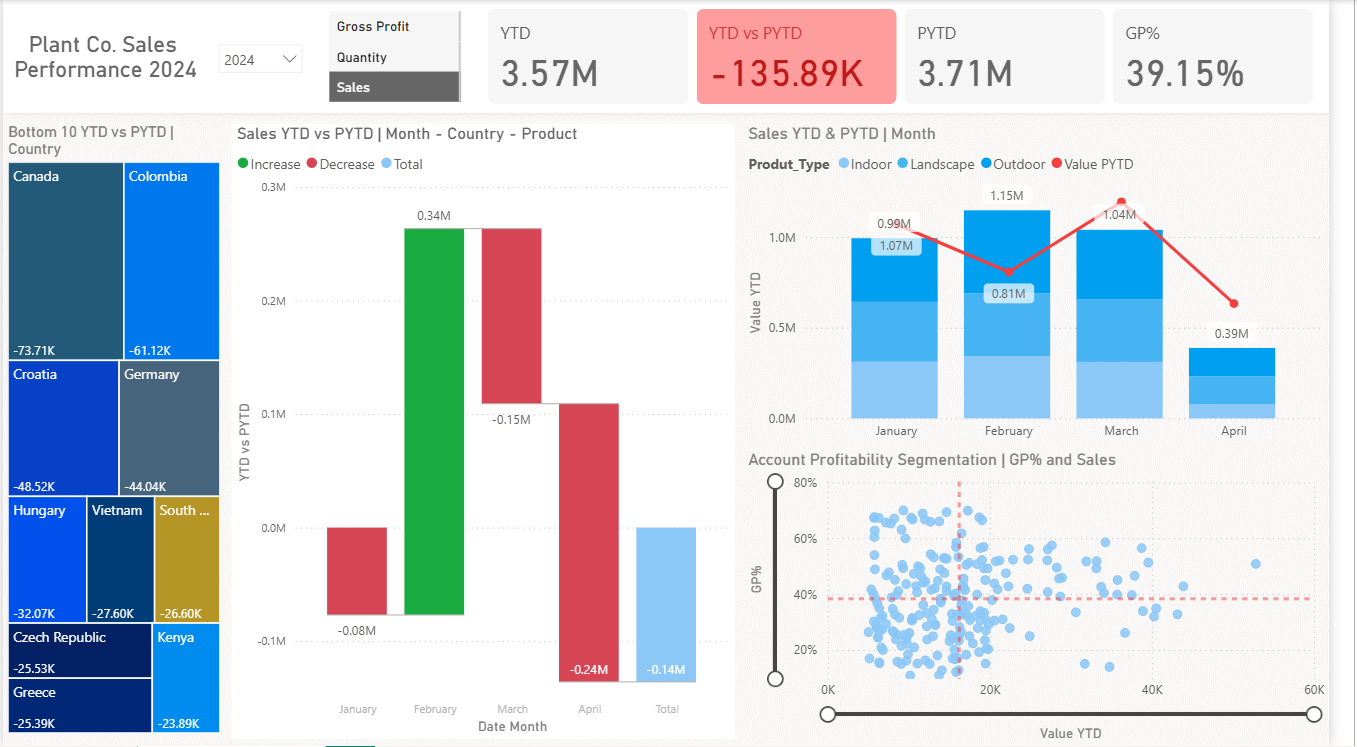

This screenshot's page, from the dashboard's own definition file:
{"tool":"powerbi","page":{"name":"Performance Report","canvas":[1280,720],"ordinal":0},"visuals":[{"type":"cardVisual","fields":{"Data":["_Measures.S_YTD","_Measures.YTD vs PYTD","_Measures.S_PYTD","_Measures.GP%"]},"box":[463,4.2,806.2,102.1],"z":0},{"type":"advancedSlicerVisual","fields":{"Values":["Slc_Values.Values"]},"box":[309.8,5.9,137.3,98],"z":1000},{"type":"slicer","fields":{"Values":["Dim_Date.Date.Variation.Date Hierarchy.Year"]},"box":[198.4,32.7,101.3,50.2],"z":2000},{"type":"treemap","title":"Bottom 10 YTD vs PYTD | Country","fields":{"Values":["_Measures.YTD vs PYTD"],"Group":["Dim_Account.country"]},"box":[0,118.7,214.6,594.4],"z":3000},{"type":"waterfallChart","fields":{"Y":["_Measures.YTD vs PYTD"],"Category":["Dim_Date.Date.Variation.Date Hierarchy.Month","Dim_Account.country","Dim_Product.Produt_Type","Dim_Product.Product_Name"]},"box":[220.3,119.6,485.2,593.5],"z":4000},{"type":"lineStackedColumnComboChart","fields":{"Y":["_Measures.S_YTD"],"Y2":["_Measures.S_PYTD"],"Category":["Dim_Date.Date.Variation.Date Hierarchy.Quarter","Dim_Date.Date.Variation.Date Hierarchy.Month"],"Series":["Dim_Product.Produt_Type"]},"box":[714.1,119.6,565.9,314.3],"z":5000},{"type":"scatterChart","fields":{"Y":["_Measures.GP%"],"X":["_Measures.S_YTD"],"Category":["Dim_Account.Account"]},"box":[714.1,433.9,565.9,285.8],"z":6000},{"type":"card","fields":{"Values":["_Measures._Report title"]},"box":[0,20.9,198.5,68.4],"z":7000}]}

Visuals, with their boxes in screenshot pixels (x1, y1, x2, y2), scaled from the page's 1280x720 canvas onto the 1357x747 screenshot:
cardVisual - _Measures.S_YTD x _Measures.YTD vs PYTD: <bbox>491, 4, 1346, 110</bbox>
advancedSlicerVisual - Slc_Values.Values: <bbox>328, 6, 474, 108</bbox>
slicer - Dim_Date.Date.Variation.Date Hierarchy.Year: <bbox>210, 34, 318, 86</bbox>
"Bottom 10 YTD vs PYTD | Country" treemap: <bbox>0, 123, 228, 740</bbox>
waterfallChart - _Measures.YTD vs PYTD x Dim_Date.Date.Variation.Date Hierarchy.Month: <bbox>234, 124, 748, 740</bbox>
lineStackedColumnComboChart - _Measures.S_YTD x _Measures.S_PYTD: <bbox>757, 124, 1356, 450</bbox>
scatterChart - _Measures.GP% x _Measures.S_YTD: <bbox>757, 450, 1356, 746</bbox>
card - _Measures._Report title: <bbox>0, 22, 210, 93</bbox>
